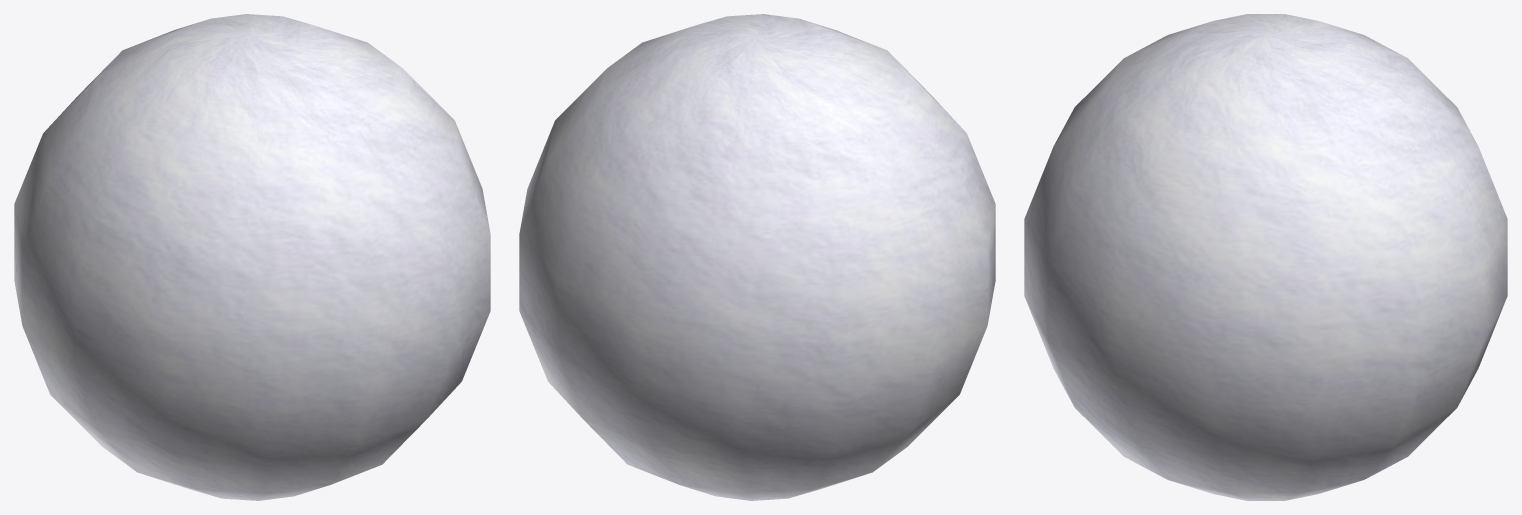
The model's file is Snowball.gltf.
3 views of the same model, side by side, from view 1: azimuth 30°, elevation 25°; view 2: azimuth 150°, elevation 25°; view 3: azimuth 270°, elevation 25° (orthographic).
Parts seen in each view (by area): view 1: Sphere; view 2: Sphere; view 3: Sphere.
Boxes of the visible parts, x1,y1,x2,y2 form: Sphere: (14,14,490,500); Sphere: (519,14,995,500); Sphere: (1024,14,1507,500).
Size of the model in its own units: 1.92 by 2 by 1.97.
Materials: 1 (1 with a texture image).
